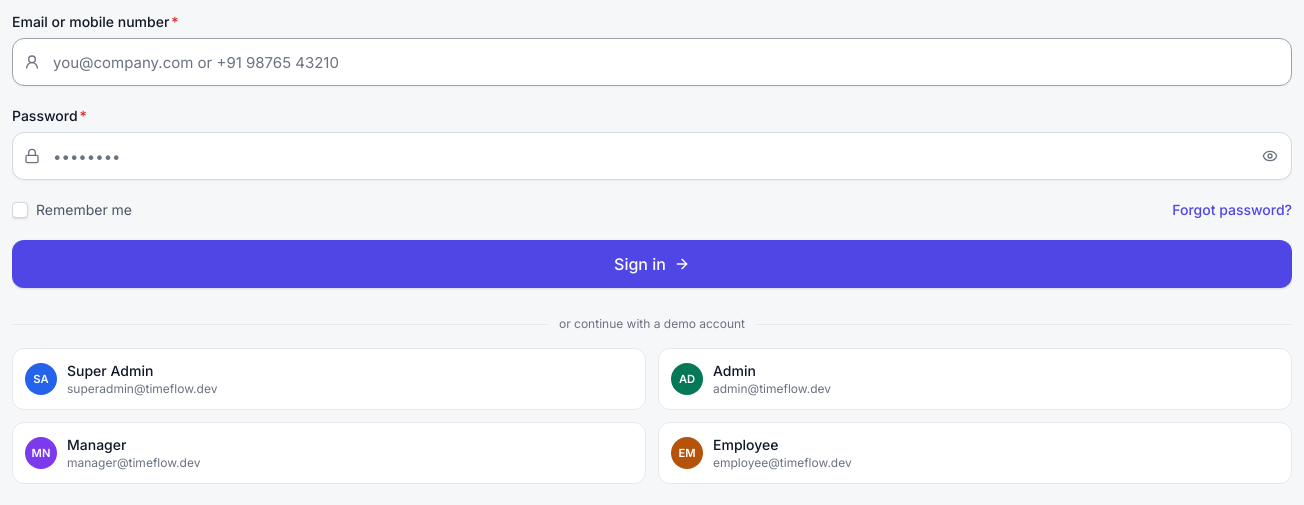
Test: LoginForm › fills credentials from a demo account chip
Click the button "EM Employee employee@timeflow.dev": (687, 453) [658,422,1292,484]
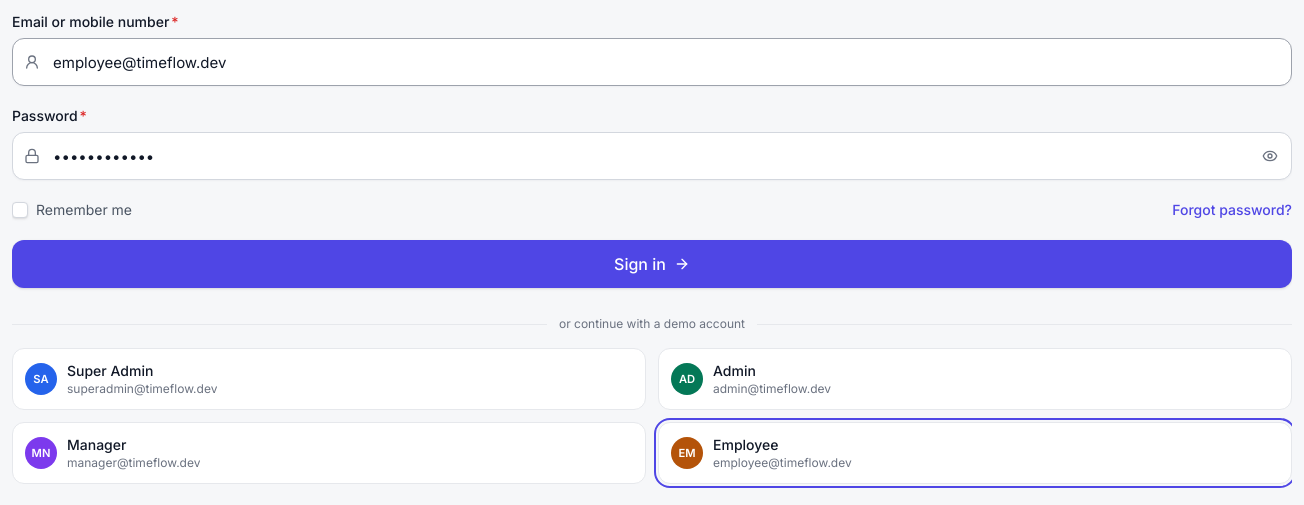
Expected: the field labelled "Email or mobile number*" holds "employee@timeflow.dev", [12,38,1292,86]
Expected: the password field labelled "Password*" holds "Password123!", [12,132,1292,180]
